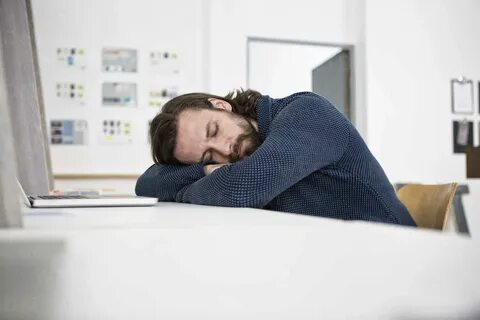sleep: (135, 89, 391, 220)
